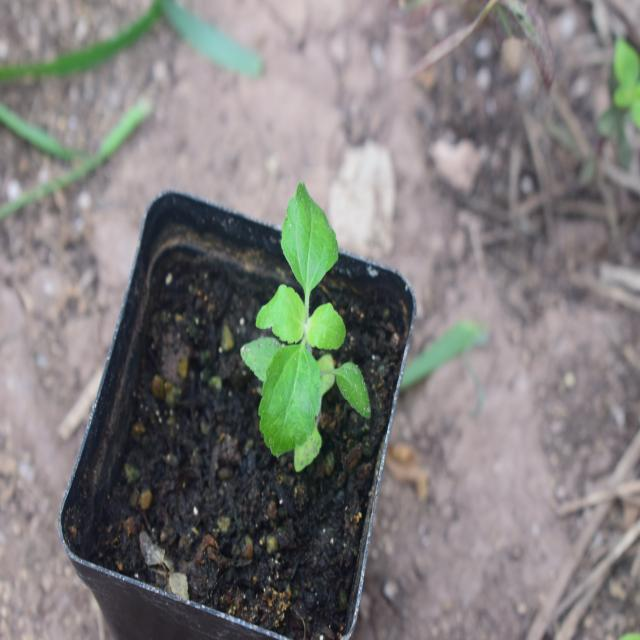billygoat_weed: (237, 178, 381, 460)
